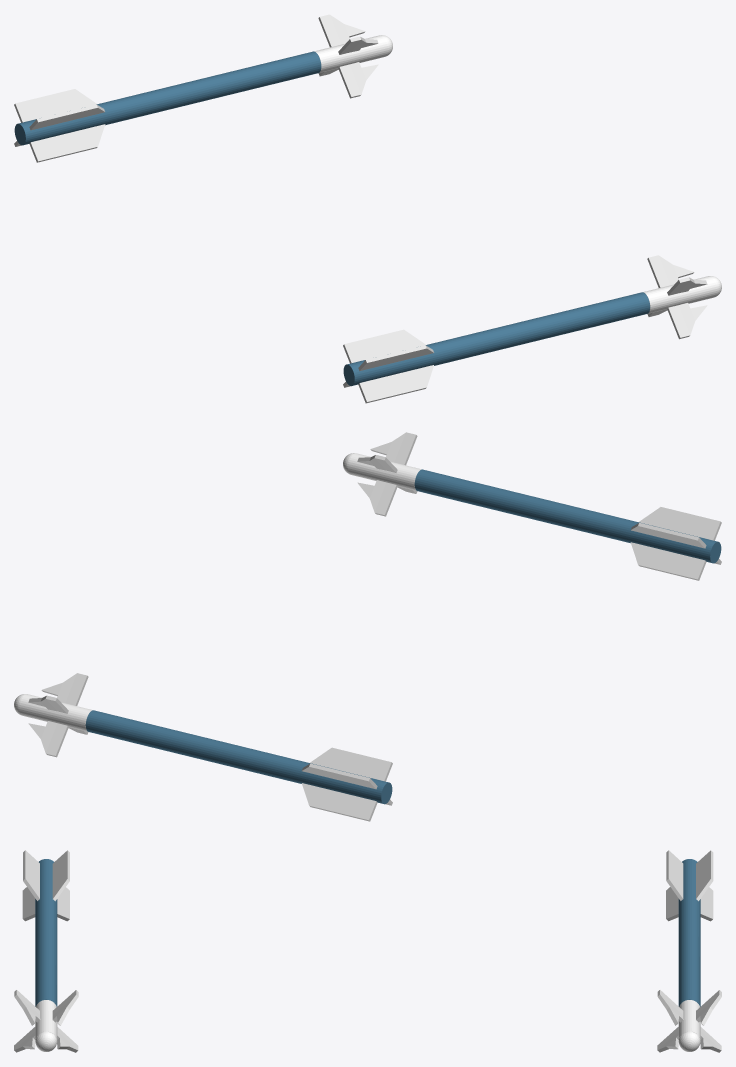
The model's file is aam3cf15j14.glb.
3 renders of one model, top to bottom at view 1: azimuth 30°, elevation 25°; view 2: azimuth 150°, elevation 25°; view 3: azimuth 270°, elevation 25°, orthographic. The views are drawn at different scales.
Visible parts, largest first — view 1: 球.004, 球.003; view 2: 球.003, 球.004; view 3: 球.004, 球.003.
Part boxes in pixels (bbox=[...]): 球.004: bbox=[14, 14, 392, 162]; 球.003: bbox=[343, 255, 721, 403]; 球.003: bbox=[343, 432, 721, 580]; 球.004: bbox=[14, 673, 392, 821]; 球.004: bbox=[657, 850, 721, 1052]; 球.003: bbox=[14, 850, 78, 1052].
Size of the model in its own units: 3.96 by 0.6096 by 6.69.
